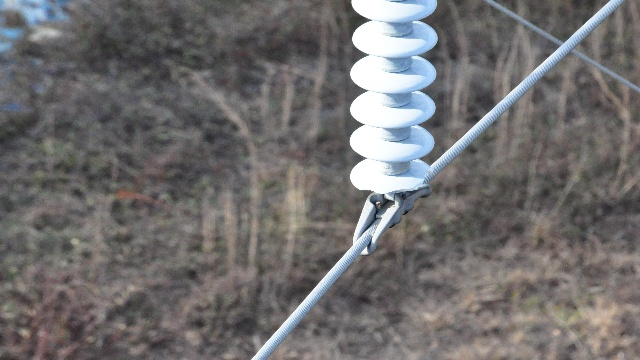broken_local: (358, 167, 435, 193)
insulator_unspecified: (349, 0, 440, 195)
